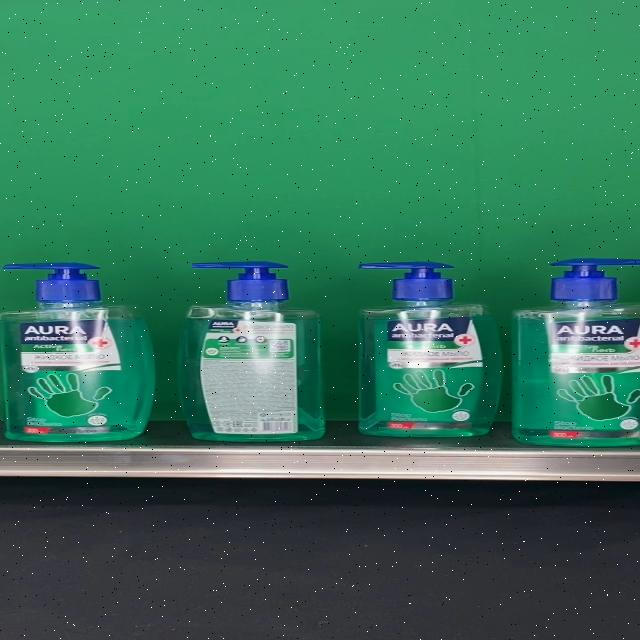Bottle: (0, 262, 157, 442), (177, 260, 325, 442), (356, 260, 502, 438), (513, 256, 640, 446)
Cap: (189, 260, 288, 302), (550, 256, 640, 302), (3, 262, 102, 302), (356, 261, 454, 301)
